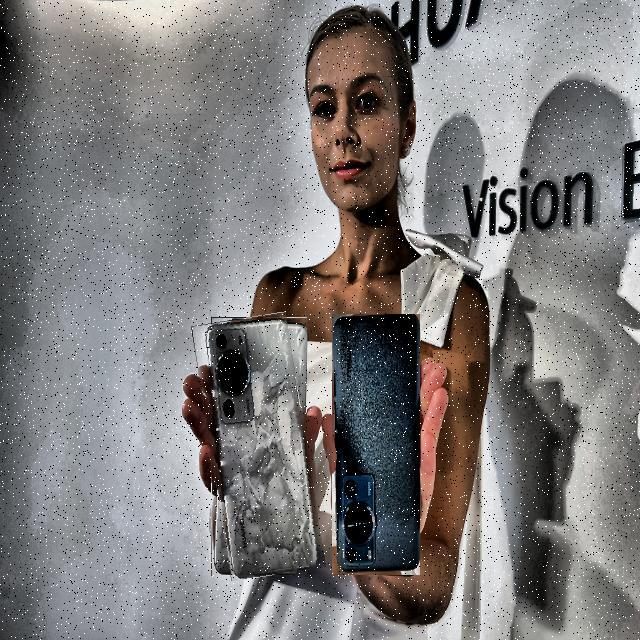Phone: (201, 314, 317, 579), (332, 314, 420, 575)
